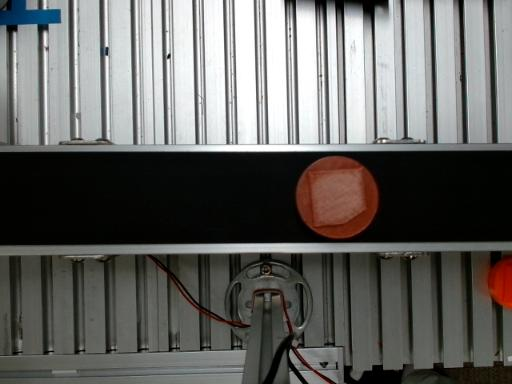Brown_Waper: (297, 156, 378, 238)
Not_Square: (307, 168, 367, 228)
